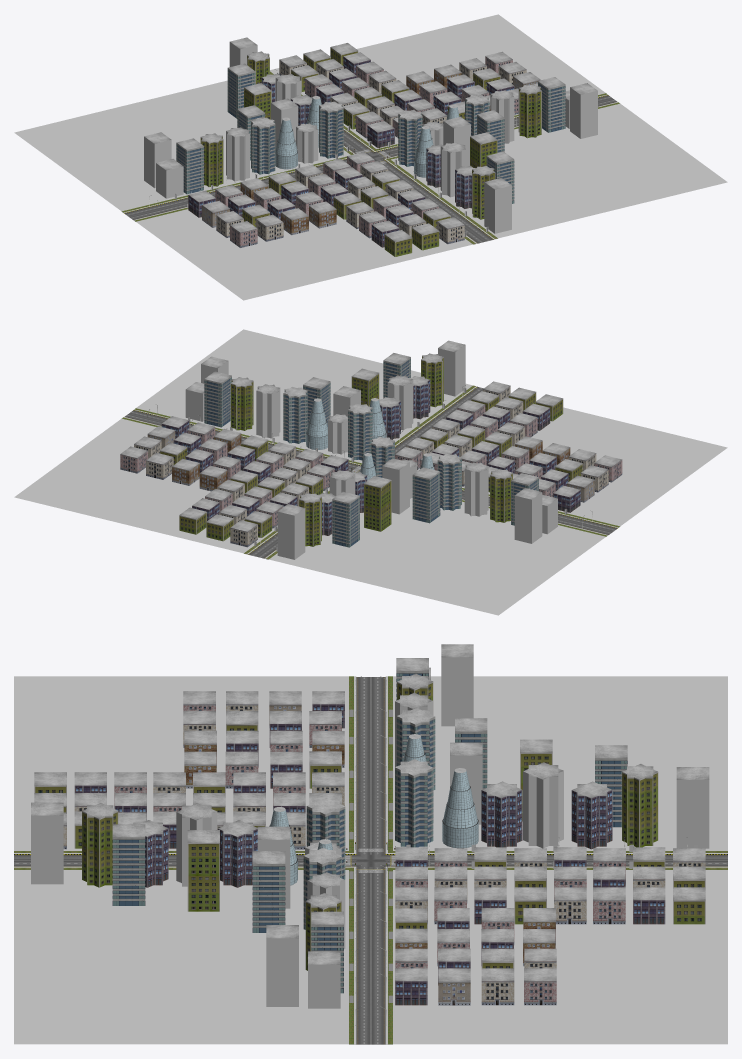
Rendered from city road building envir_01.FBX.
3 views of the same model, one above another, from view 1: azimuth 30°, elevation 25°; view 2: azimuth 150°, elevation 25°; view 3: azimuth 270°, elevation 25° (orthographic). The views are drawn at different scales.
Visible parts, largest first — view 1: env_1, env_4, env_2, env_3, b026 (×2), b17, b1, b030, b15, b022, b024, b038 (×2) (+31 smaller); view 2: env_4, env_3, env_2, env_1, b036 (×2), b14 (×2), b026 (×2), b027, b038, b021, b033, b15 (+37 smaller); view 3: env_1, env_3, env_4, env_2, road_04, road_02, b034 (×2), b030 (×2), b037 (×2), b038 (×2), b032 (×2), b035 (×2) (+76 smaller).
Boxes of the visible parts, bbox=[...] form: env_1: bbox=[386, 102, 727, 238]; env_4: bbox=[14, 80, 353, 212]; env_2: bbox=[134, 208, 475, 300]; env_3: bbox=[270, 14, 607, 150]; b026 (×2): bbox=[202, 117, 275, 227]; b17: bbox=[570, 83, 597, 138]; b1: bbox=[484, 178, 511, 233]; b030: bbox=[319, 101, 343, 158]; b15: bbox=[538, 77, 565, 132]; b022: bbox=[176, 138, 203, 194]; b024: bbox=[226, 127, 249, 181]; b038 (×2): bbox=[229, 37, 308, 235]; env_4: bbox=[266, 498, 607, 615]; env_3: bbox=[14, 417, 329, 553]; env_2: bbox=[417, 407, 727, 527]; env_1: bbox=[134, 329, 475, 464]; b036 (×2): bbox=[332, 465, 608, 547]; b14 (×2): bbox=[230, 377, 580, 512]; b026 (×2): bbox=[437, 453, 594, 510]; b027: bbox=[412, 467, 440, 523]; b038: bbox=[277, 504, 305, 559]; b021: bbox=[514, 488, 542, 543]; b033: bbox=[364, 476, 391, 531]; b15: bbox=[204, 371, 231, 427]; env_1: bbox=[14, 867, 353, 1044]; env_3: bbox=[388, 867, 727, 1044]; env_4: bbox=[388, 676, 727, 852]; env_2: bbox=[14, 676, 353, 852]; road_04: bbox=[356, 677, 385, 854]; road_02: bbox=[356, 867, 385, 1044]; b034 (×2): bbox=[226, 730, 563, 848]; b030 (×2): bbox=[153, 759, 433, 847]; b037 (×2): bbox=[184, 751, 658, 847]; b038 (×2): bbox=[184, 730, 709, 848]; b032 (×2): bbox=[233, 772, 522, 847]; b035 (×2): bbox=[226, 711, 612, 849].
Size of the model in its own units: 11621 by 1094 by 9532.
